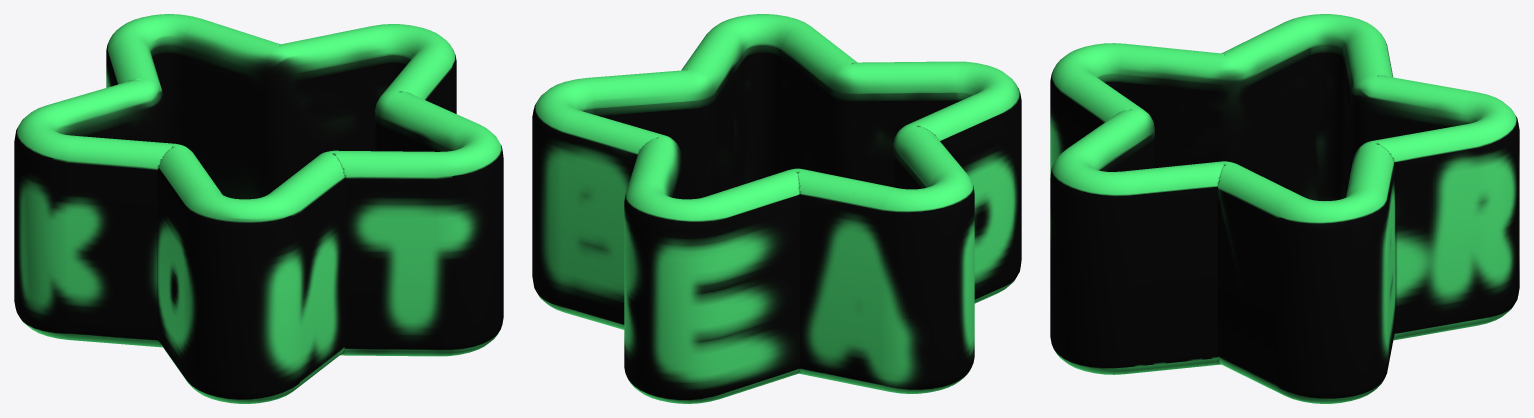
The model's file is Particle-1.dae.
3 views of the same model, side by side, from view 1: azimuth 30°, elevation 25°; view 2: azimuth 150°, elevation 25°; view 3: azimuth 270°, elevation 25° (orthographic).
Parts seen in each view (by area): view 1: Particle; view 2: Particle; view 3: Particle.
Part boxes in pixels (bbox=[...]): Particle: bbox=[14, 14, 503, 403]; Particle: bbox=[532, 14, 1021, 403]; Particle: bbox=[1050, 14, 1519, 403].
Size of the model in its own units: 0.133 by 0.06 by 0.1281.
1 material, 1 textured.
